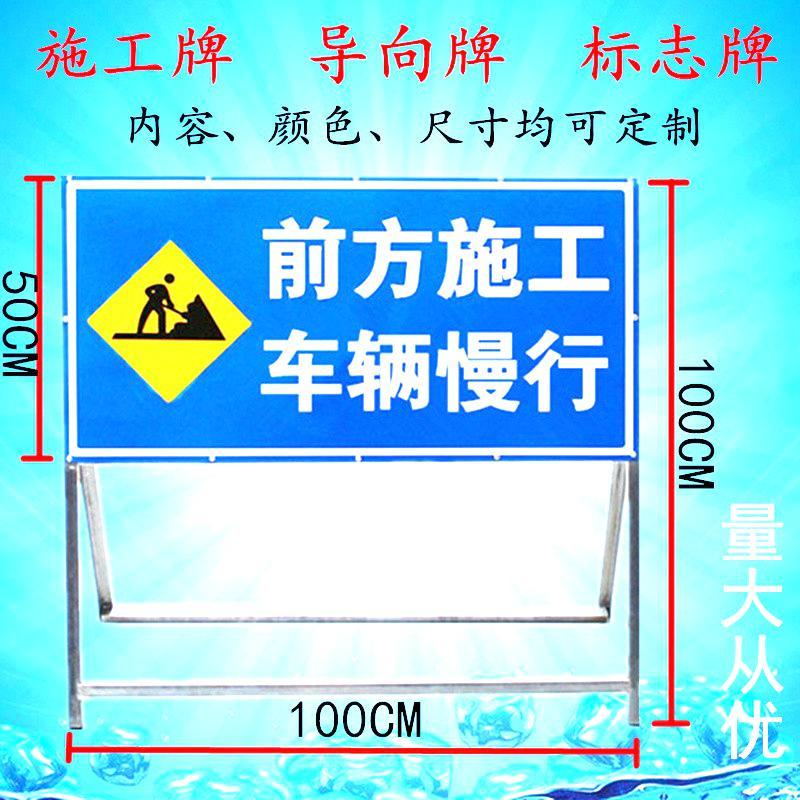sign: (62, 177, 639, 461)
